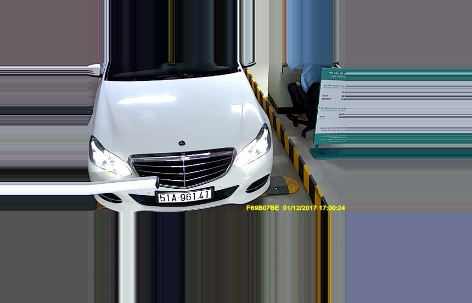plate: (154, 189, 215, 204)
